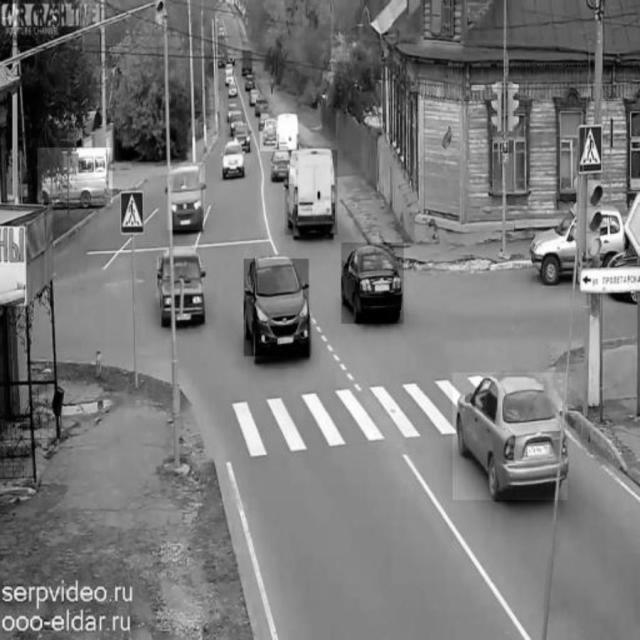vehicle: (453, 372, 567, 500), (535, 209, 628, 287), (244, 259, 308, 357), (343, 243, 405, 324), (286, 150, 338, 234), (37, 148, 111, 203), (160, 250, 204, 327), (167, 163, 205, 230), (221, 140, 248, 184), (270, 143, 295, 184), (261, 118, 278, 152), (228, 108, 245, 138), (248, 82, 263, 102), (228, 77, 240, 97)
